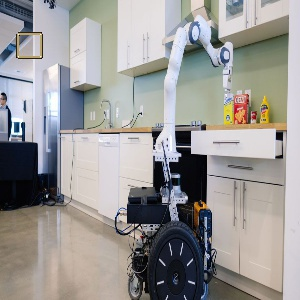square: (13, 30, 45, 60)
